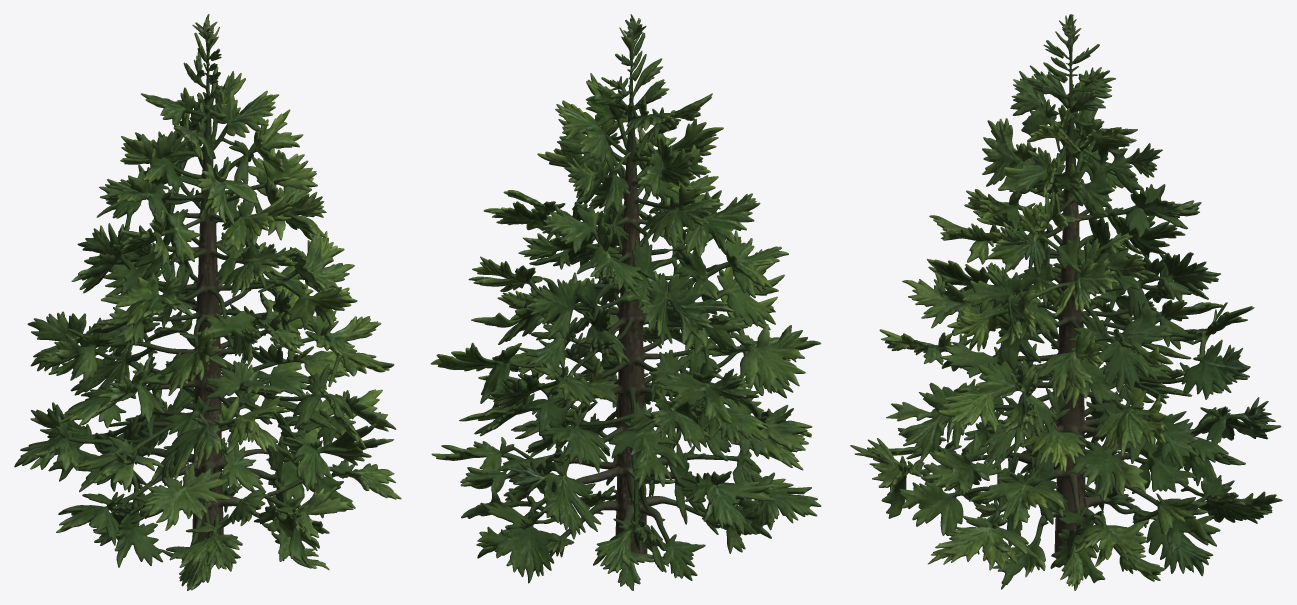
The model's file is giant-conifer.glb.
3 renders of one model, left to right at view 1: azimuth 30°, elevation 25°; view 2: azimuth 150°, elevation 25°; view 3: azimuth 270°, elevation 25°, orthographic.
Parts seen in each view (by area): view 1: tripo_node_22ddf0ec-ee5a-42f4-9d41-c3c1ea70255e; view 2: tripo_node_22ddf0ec-ee5a-42f4-9d41-c3c1ea70255e; view 3: tripo_node_22ddf0ec-ee5a-42f4-9d41-c3c1ea70255e.
Part boxes in pixels (x1,y1,x2,y2): tripo_node_22ddf0ec-ee5a-42f4-9d41-c3c1ea70255e: (14,14,401,590); tripo_node_22ddf0ec-ee5a-42f4-9d41-c3c1ea70255e: (430,14,821,590); tripo_node_22ddf0ec-ee5a-42f4-9d41-c3c1ea70255e: (850,14,1282,590).
Bounding box in the file's own units: 0.6463 × 0.9779 × 0.7066.
Materials: 1 (1 with a texture image).
